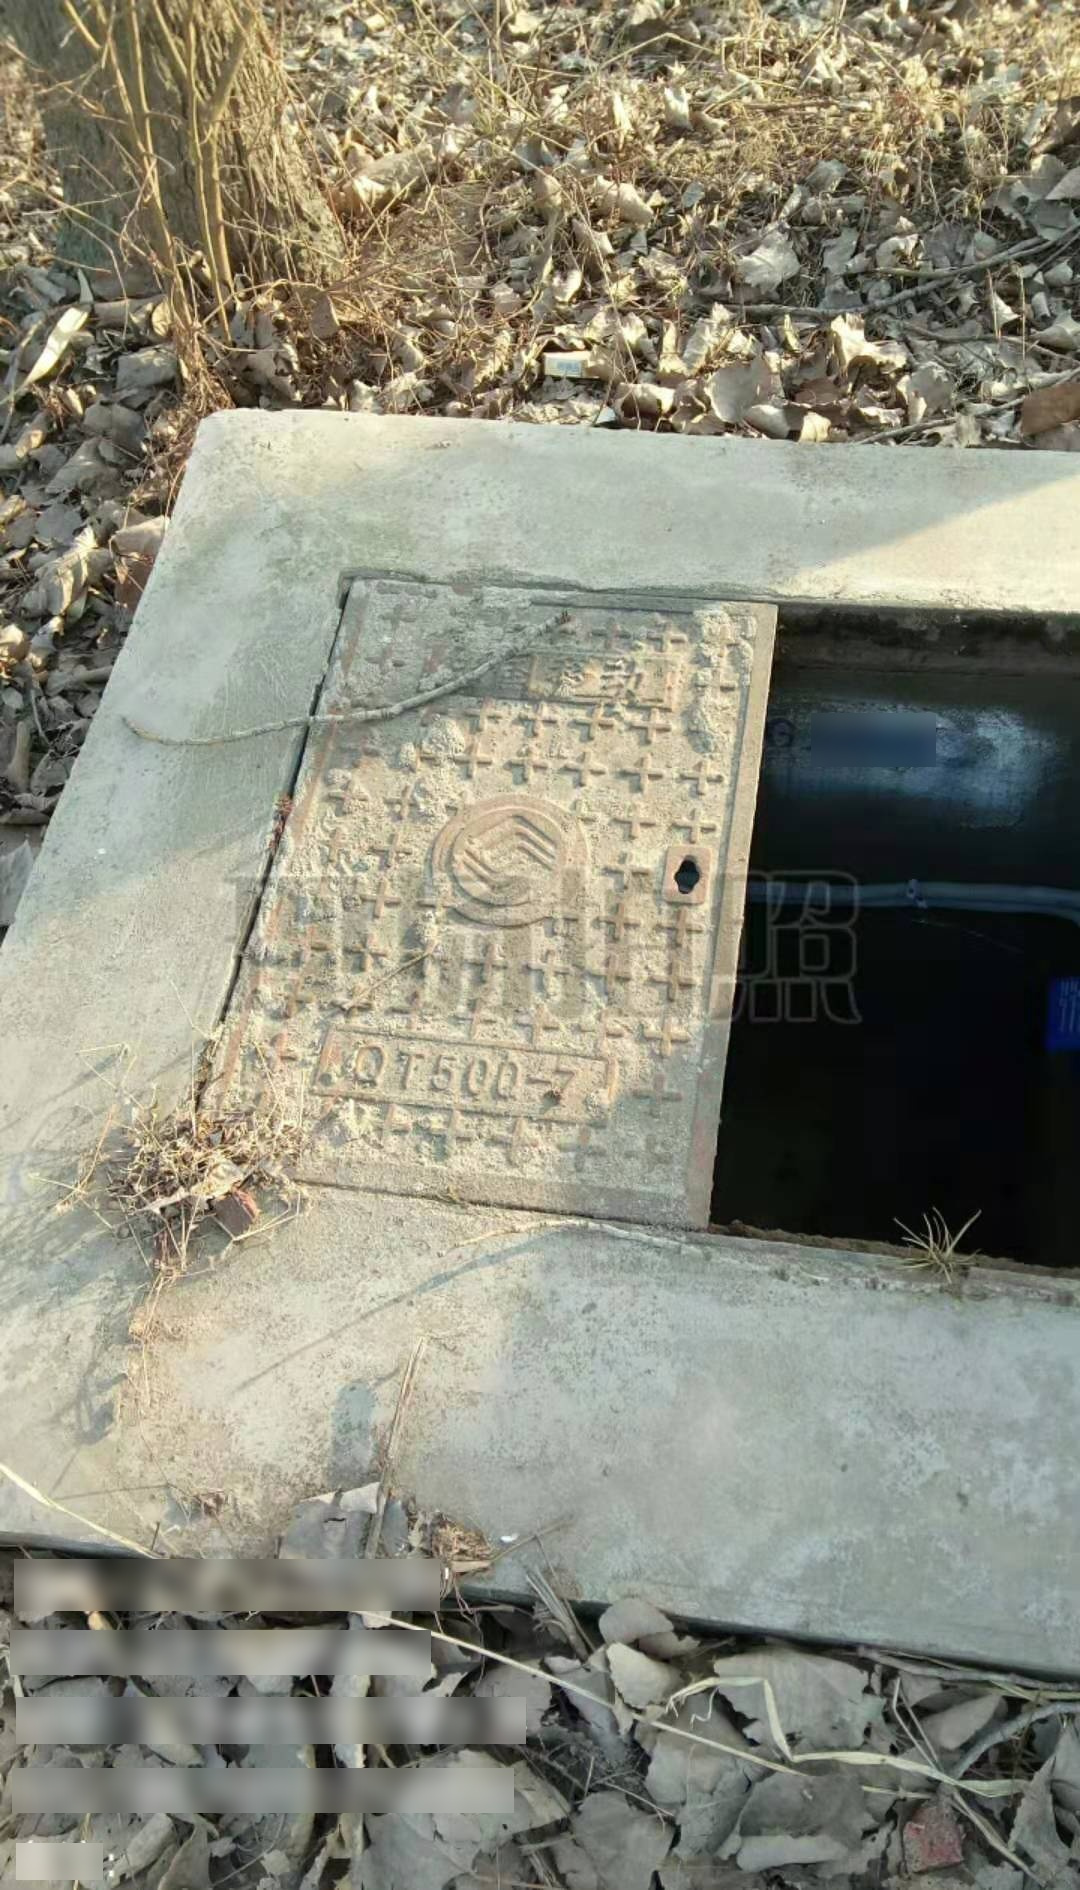well: (154, 572, 1080, 1307)
